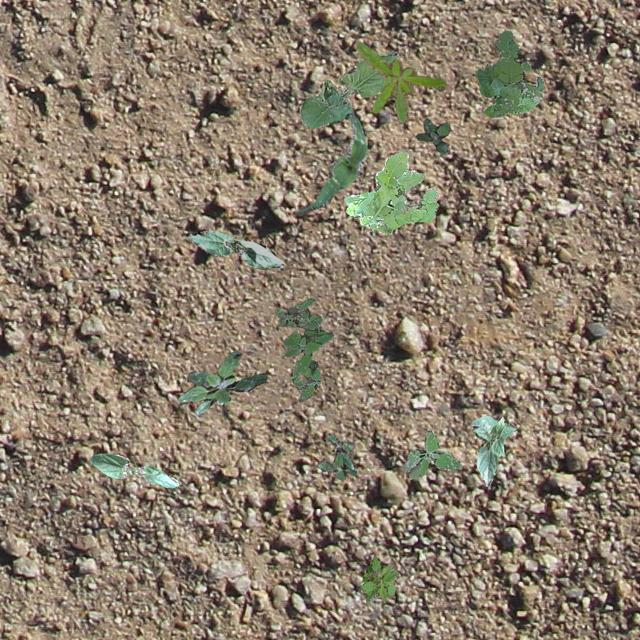crop: (298, 51, 398, 128), (294, 110, 366, 214), (186, 230, 282, 268), (470, 414, 516, 484), (90, 452, 178, 487)
weed: (344, 150, 438, 232), (354, 41, 446, 122), (274, 296, 332, 401), (474, 30, 542, 116), (177, 350, 266, 414), (402, 428, 461, 478), (316, 432, 356, 480), (360, 556, 398, 602), (414, 118, 448, 154)
